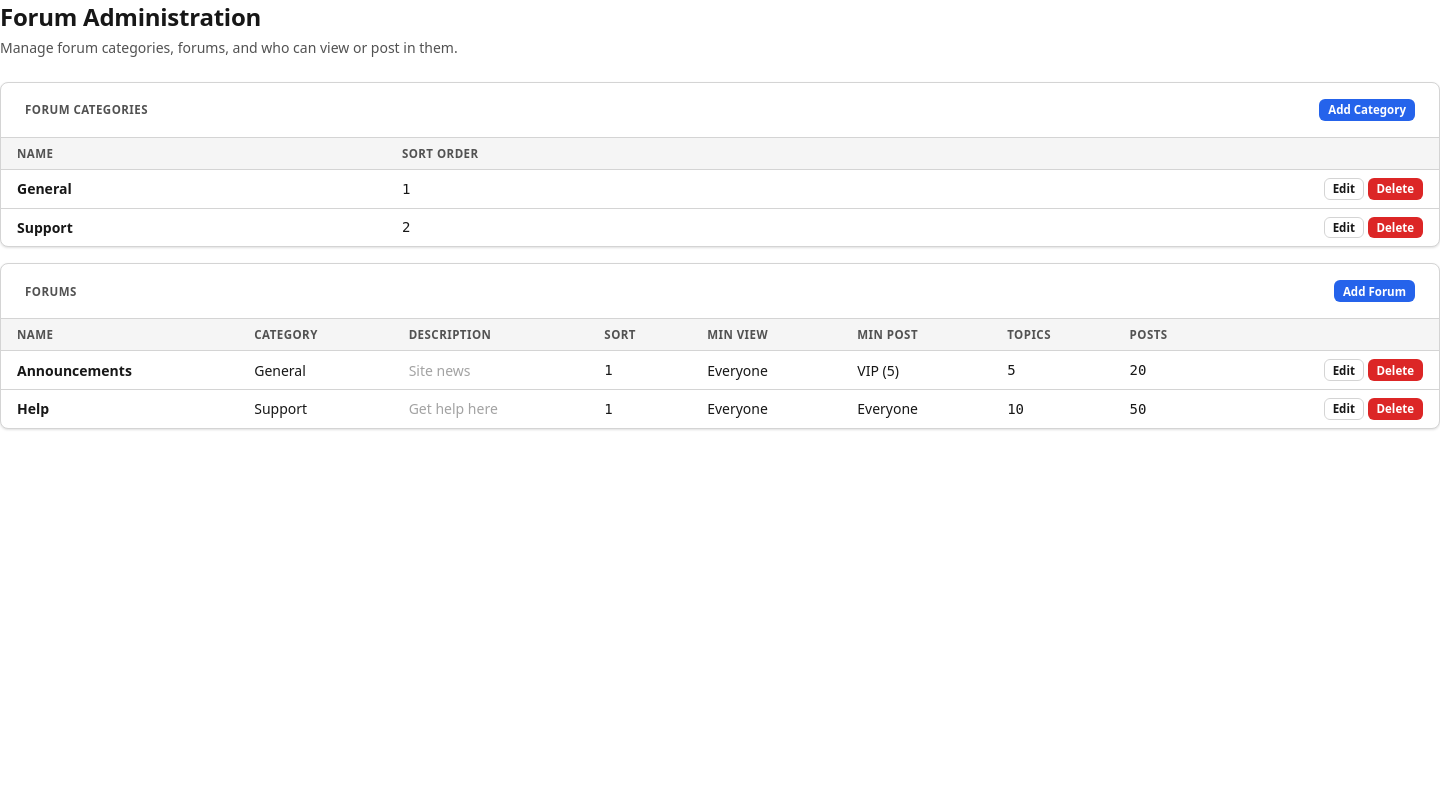
it: AdminForumsPage › opens create forum modal
The width and height of the screenshot is (1440, 810).
Expected: the text "Announcements" is shown, 1,351 -> 238,389
Click the button "Add Forum" at coordinates (1374, 291), box 1334,280 -> 1415,302
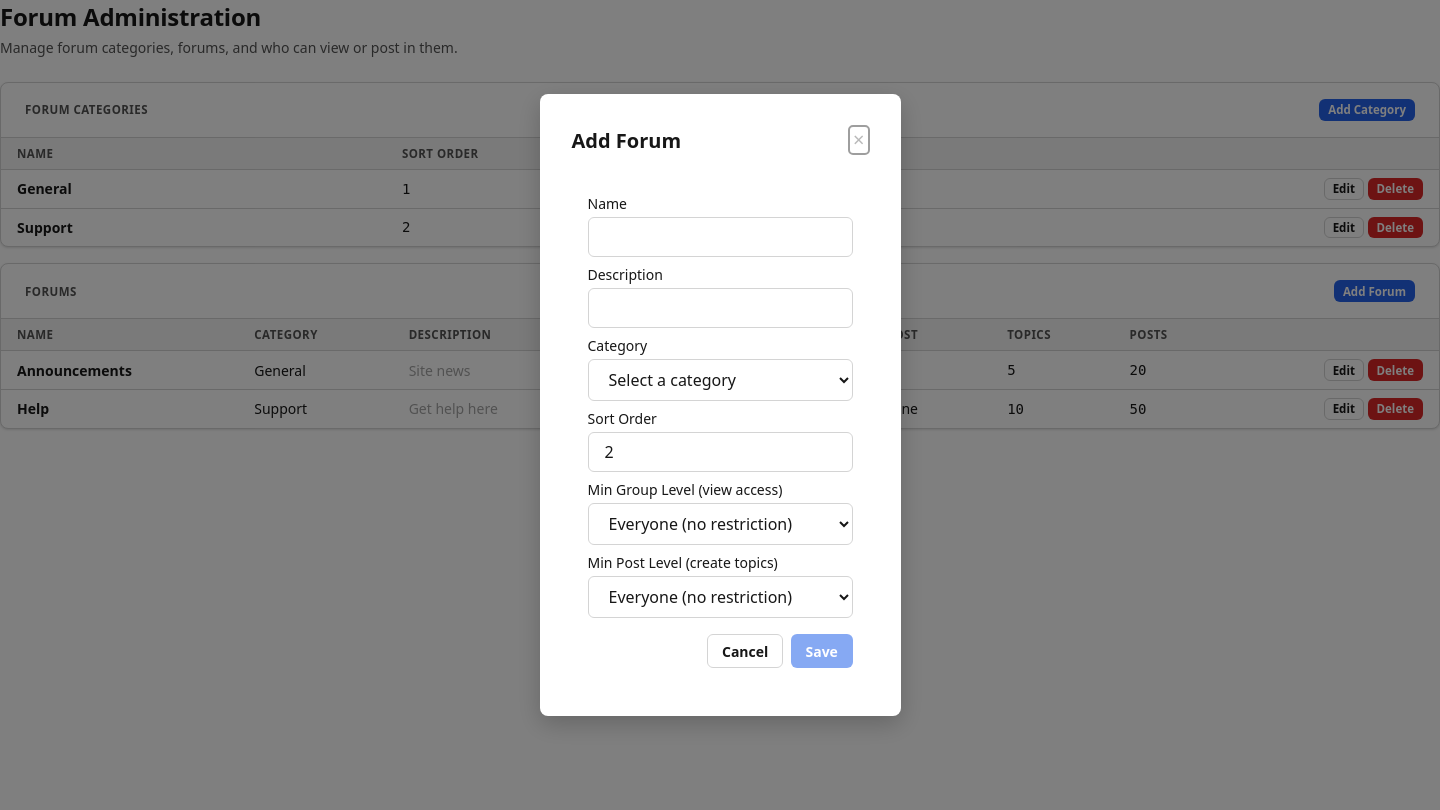
Expected: the dialog is shown
Expected: the heading "Add Forum" is shown, 572,127 -> 681,154
